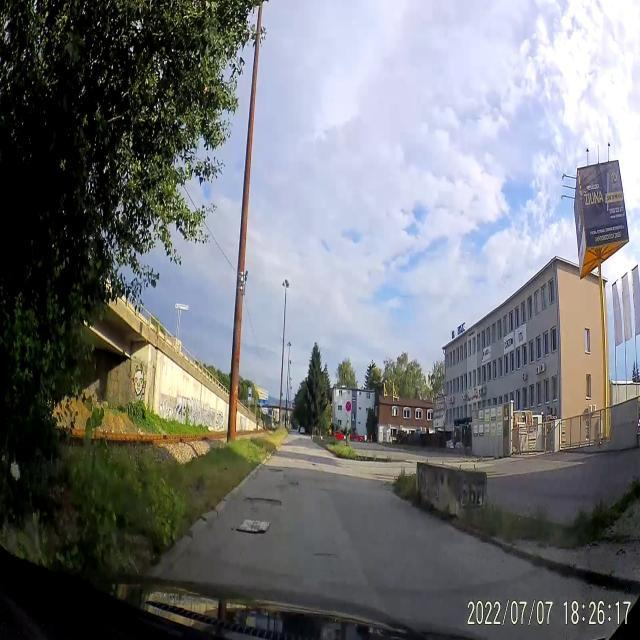Pothole: (240, 492, 286, 514), (312, 546, 341, 563), (266, 464, 285, 476), (288, 481, 300, 488)
